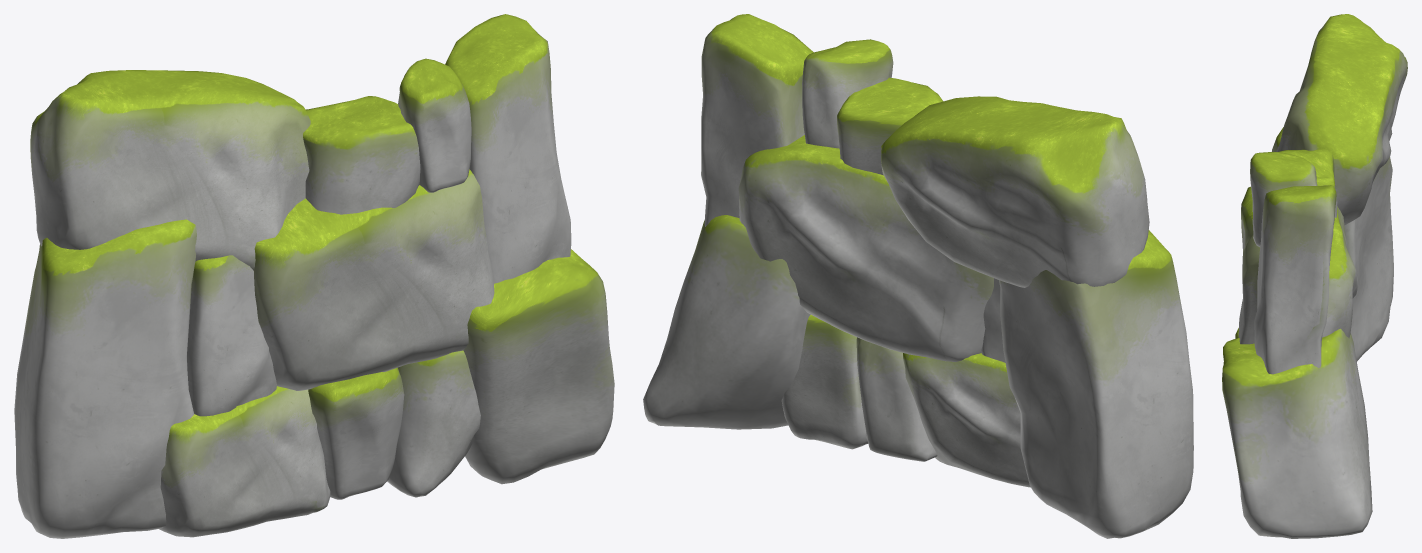
Rendered from SM_cliff_03.fbx.
The picture shows the model from 3 angles, left to right: view 1: azimuth 30°, elevation 25°; view 2: azimuth 150°, elevation 25°; view 3: azimuth 270°, elevation 25°; orthographic projection. The views are drawn at different scales.
Parts seen in each view (by area): view 1: Group64894; view 2: Group64894; view 3: Group64894.
Part boxes in pixels (x1=…): Group64894: x1=14, y1=14, x2=614, y2=538; Group64894: x1=643, y1=14, x2=1193, y2=538; Group64894: x1=1222, y1=14, x2=1407, y2=538.
Bounding box in the file's own units: 416 × 319 × 155.
